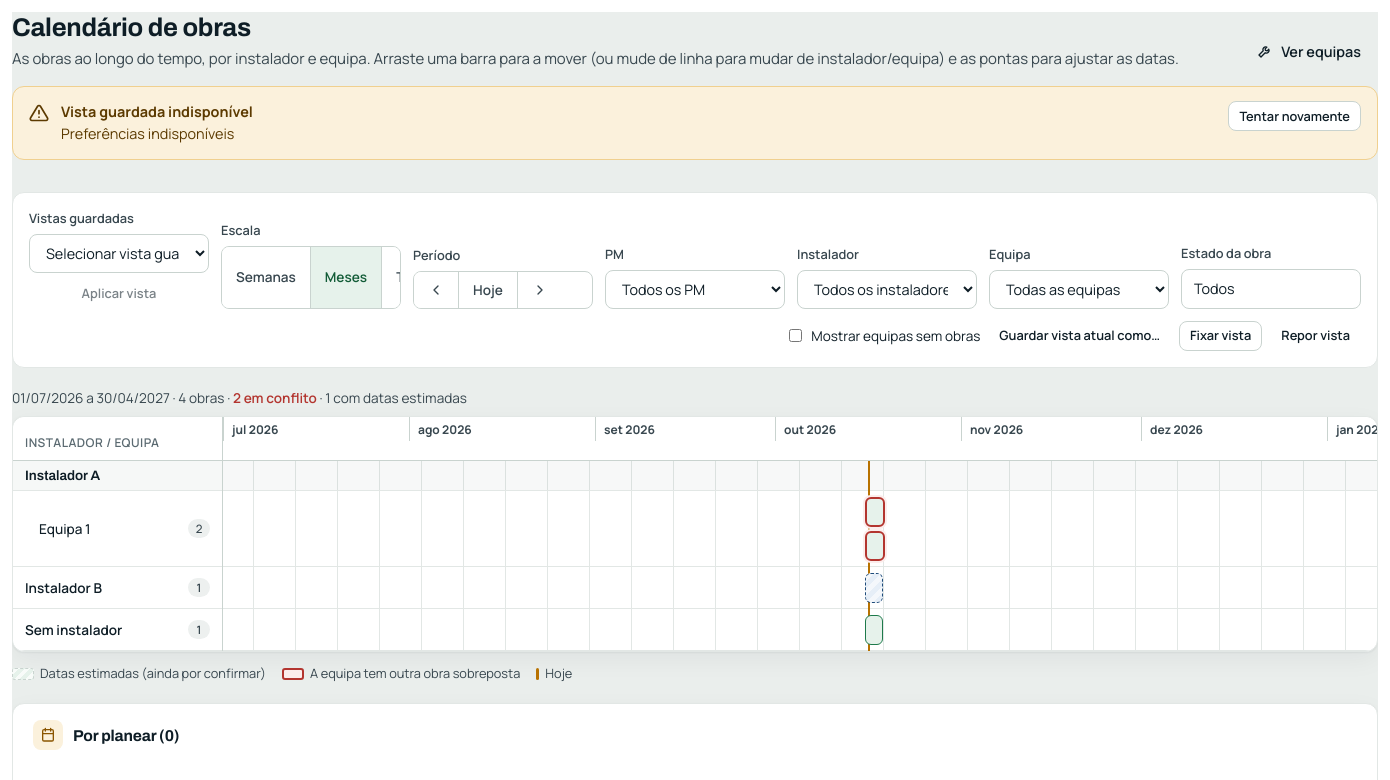
Test: Works (calendário de obras) › mostra erro ao guardar uma vista nomeada e não altera a lista sem resposta confirmada
Click the button "Guardar vista atual como…" at [1080, 336], box [988,321,1171,351]
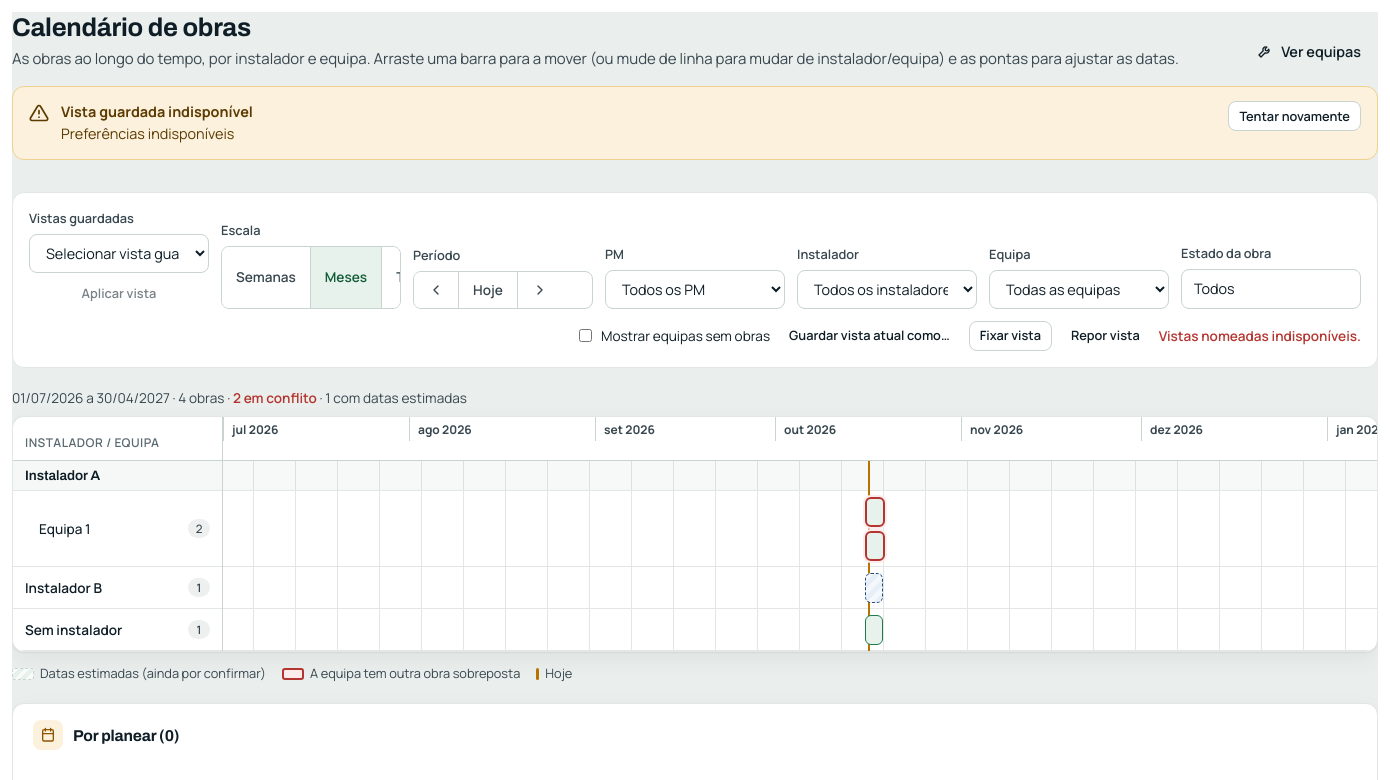
Result: the text "Vistas nomeadas indisponíveis." is shown at [1159,326,1361,346]
